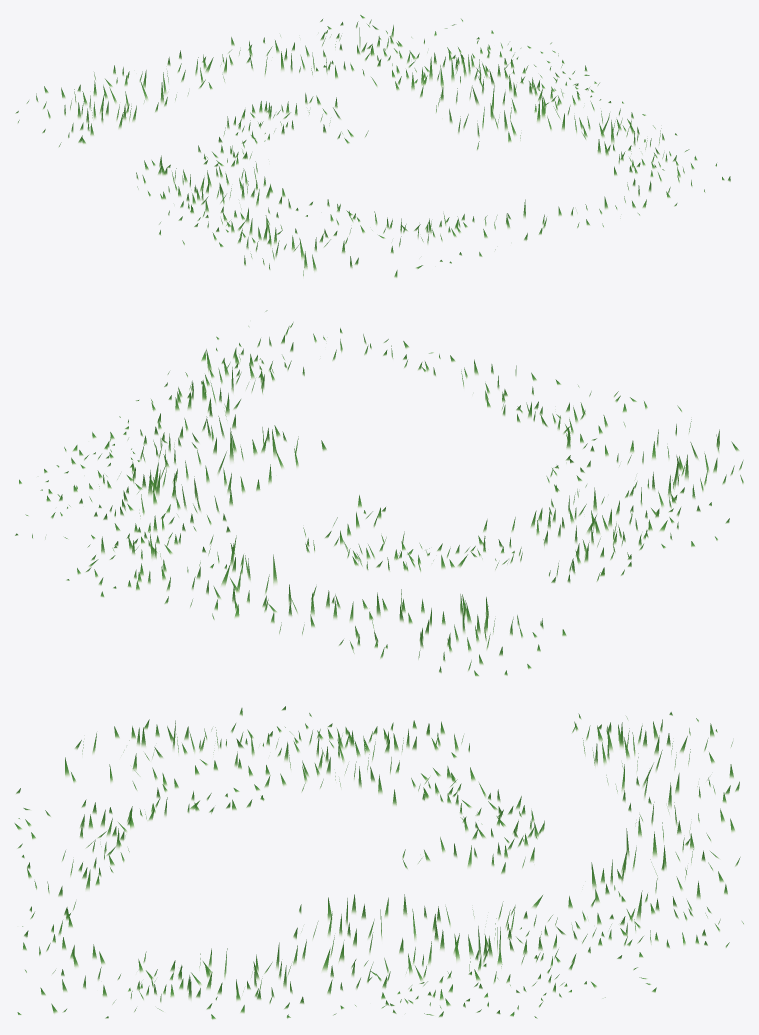
File: grass_glb.glb
3 renders of one model, top to bottom at view 1: azimuth 30°, elevation 25°; view 2: azimuth 150°, elevation 25°; view 3: azimuth 270°, elevation 25°, orthographic. The views are drawn at different scales.
Visible parts, largest first — view 1: grass_model; view 2: grass_model; view 3: grass_model.
Part boxes in pixels (x1=…): grass_model: x1=15, y1=15, x2=730, y2=277; grass_model: x1=15, y1=310, x2=743, y2=676; grass_model: x1=14, y1=706, x2=743, y2=1019.
Bounding box in the file's own units: 15.73 × 1.04 × 15.68.
1 material, 1 textured.
